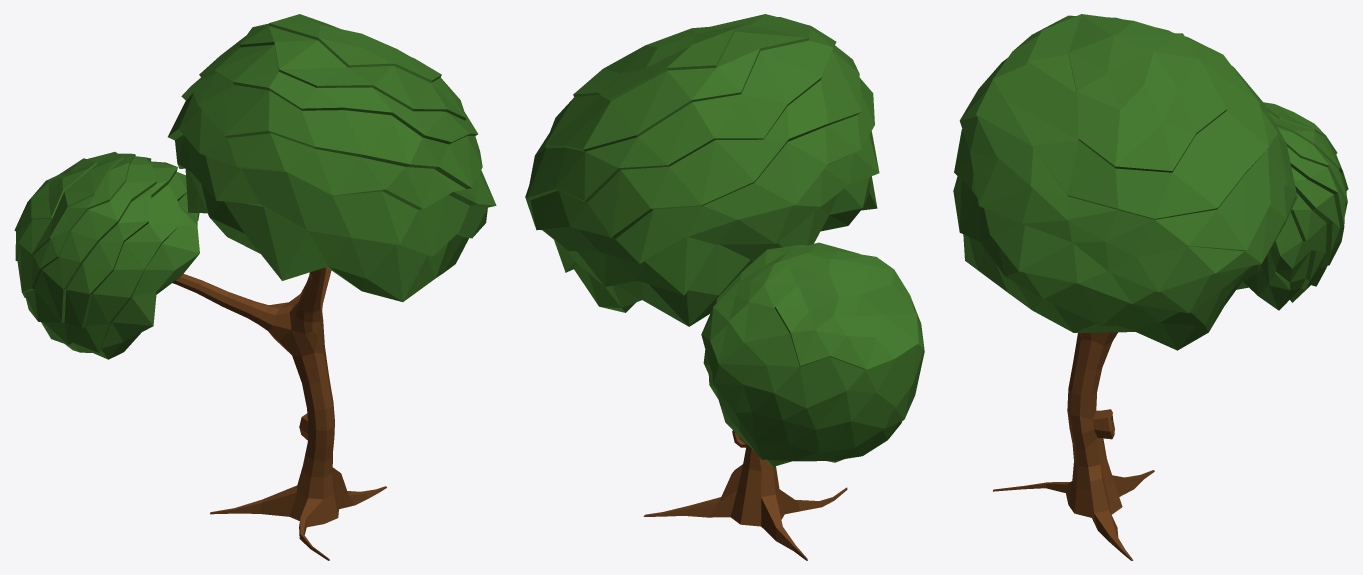
File: LP med Bush tree TREE ST1.fbx
3 renders of one model, left to right at view 1: azimuth 30°, elevation 25°; view 2: azimuth 150°, elevation 25°; view 3: azimuth 270°, elevation 25°, orthographic. The views are drawn at different scales.
Parts seen in each view (by area): view 1: TreeTrunkM; view 2: TreeTrunkM; view 3: TreeTrunkM.
Part boxes in pixels (x1,y1,x2,y2): TreeTrunkM: [14, 14, 496, 560]; TreeTrunkM: [525, 14, 924, 560]; TreeTrunkM: [953, 14, 1348, 560].
Size of the model in its own units: 800 by 927 by 682.
